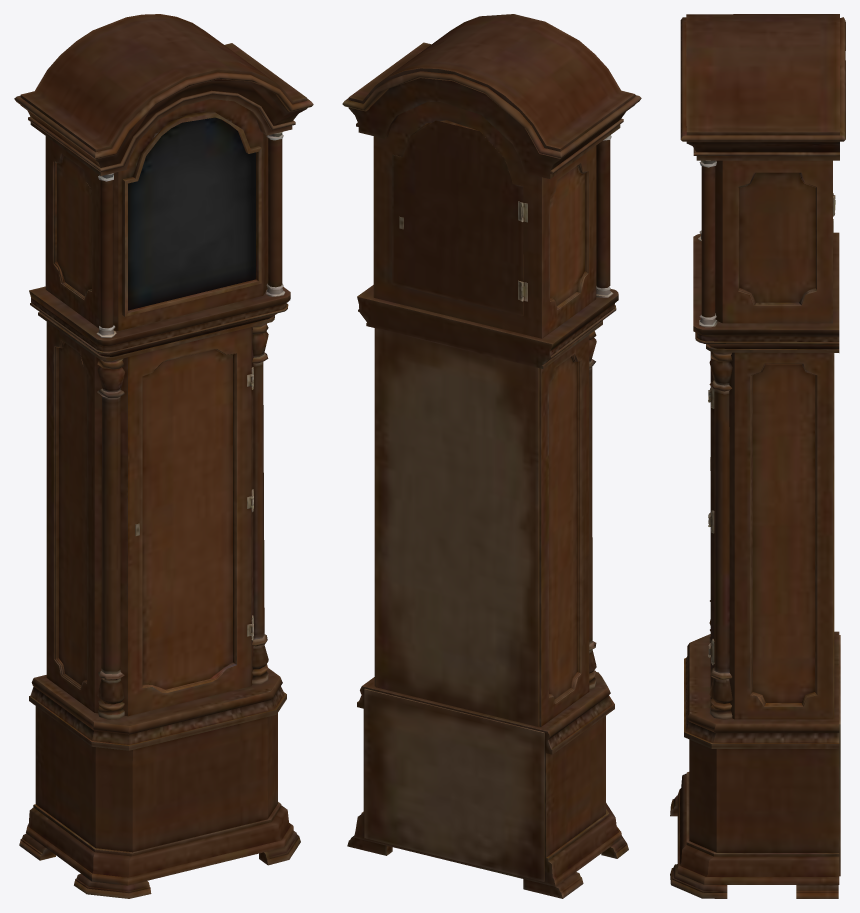
The model's file is grandfather_clock.glb.
The picture shows the model from 3 angles, left to right: view 1: azimuth 30°, elevation 25°; view 2: azimuth 150°, elevation 25°; view 3: azimuth 270°, elevation 25°; orthographic projection. The views are drawn at different scales.
Parts seen in each view (by area): view 1: vintage_grandfather_clock_01_Body; view 2: vintage_grandfather_clock_01_Body; view 3: vintage_grandfather_clock_01_Body.
Boxes of the visible parts, x1,y1,x2,y2 form: vintage_grandfather_clock_01_Body: (14,14,313,898); vintage_grandfather_clock_01_Body: (342,14,641,898); vintage_grandfather_clock_01_Body: (670,14,845,898).
Size of the model in its own units: 0.6256 by 2.19 by 0.4267.
Materials: 2 (2 with a texture image).
